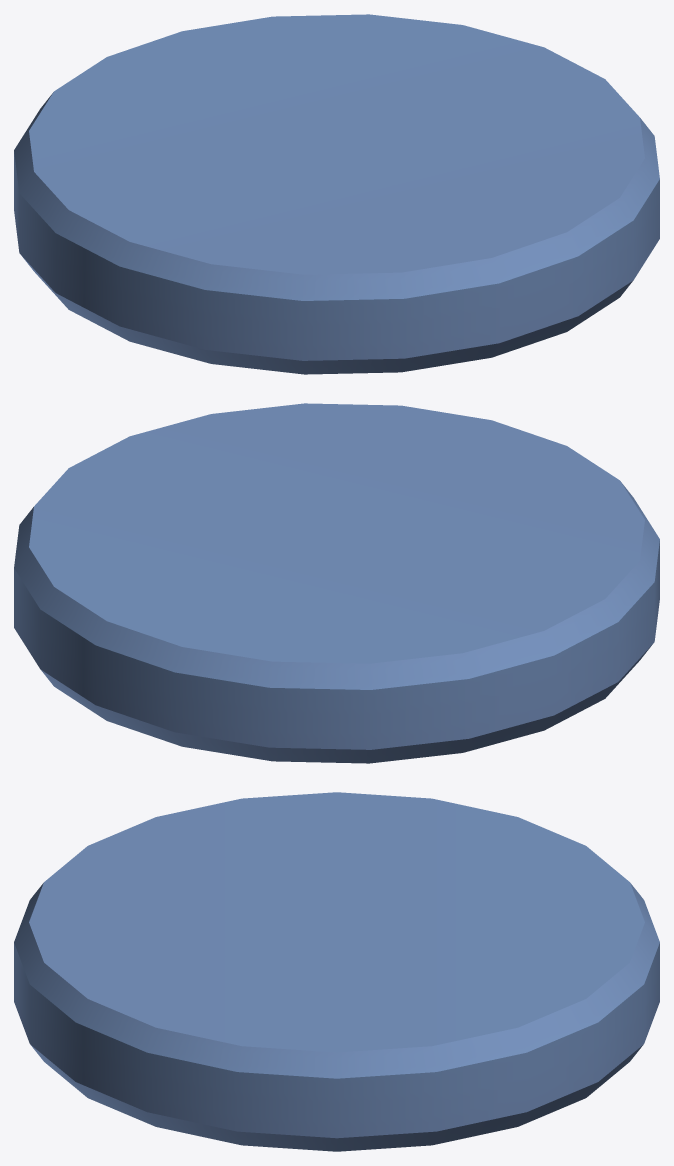
File: disc2.fbx
3 views of the same model, one above another, from view 1: azimuth 30°, elevation 25°; view 2: azimuth 150°, elevation 25°; view 3: azimuth 270°, elevation 25° (orthographic).
Visible parts, largest first — view 1: pCylinder; view 2: pCylinder; view 3: pCylinder.
Part boxes in pixels (bbox=[...]): pCylinder: bbox=[14, 14, 659, 374]; pCylinder: bbox=[14, 403, 659, 763]; pCylinder: bbox=[14, 792, 659, 1151].
Bounding box in the file's own units: 70.81 × 12 × 70.81.
1 material, 1 textured.
